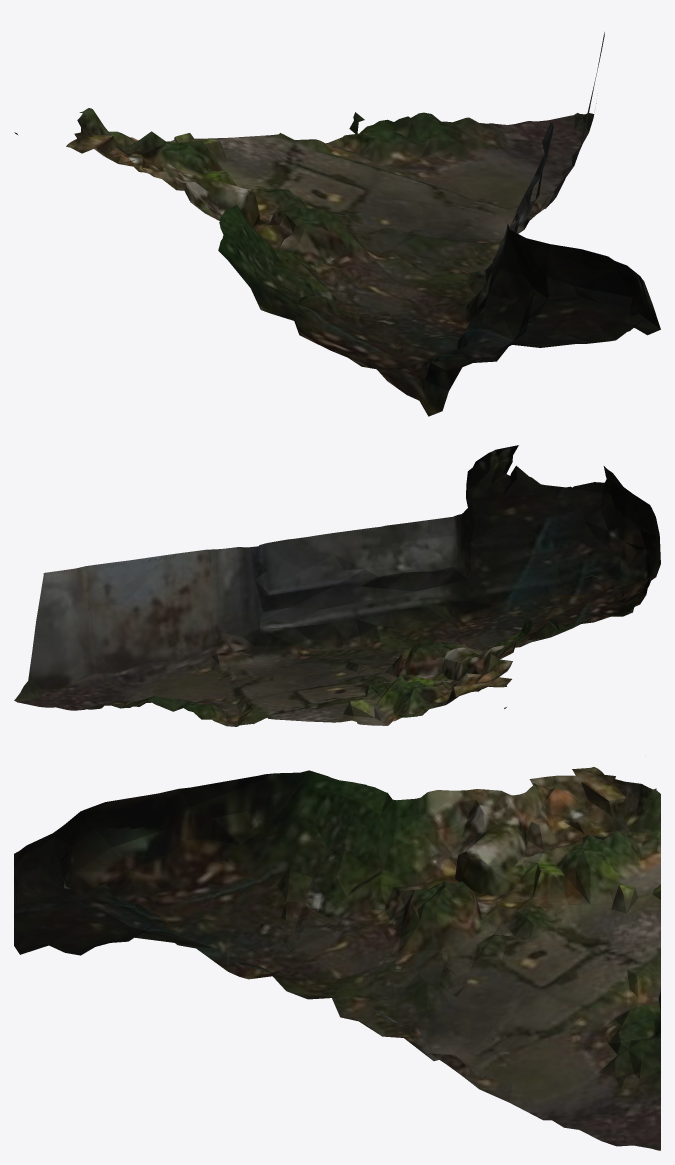
3 renders of one model, top to bottom at view 1: azimuth 30°, elevation 25°; view 2: azimuth 150°, elevation 25°; view 3: azimuth 270°, elevation 25°, orthographic. The views are drawn at different scales.
Bounding box in the file's own units: 3.35 × 0.7244 × 3.35.
Materials: 2 (2 with a texture image).
